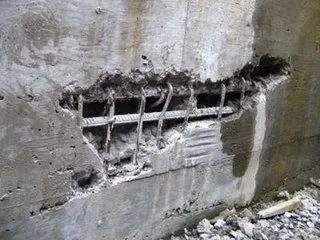Exposed reinforcement: (77, 79, 255, 104), (81, 104, 235, 128), (156, 81, 174, 149), (102, 88, 116, 175), (132, 86, 147, 167), (216, 82, 227, 121), (185, 86, 195, 126), (77, 92, 84, 134), (148, 92, 166, 108), (239, 76, 247, 110)
Spalling: (58, 53, 292, 184), (31, 109, 76, 174), (69, 163, 105, 197), (29, 199, 69, 218), (1, 184, 23, 202), (1, 94, 34, 101)
